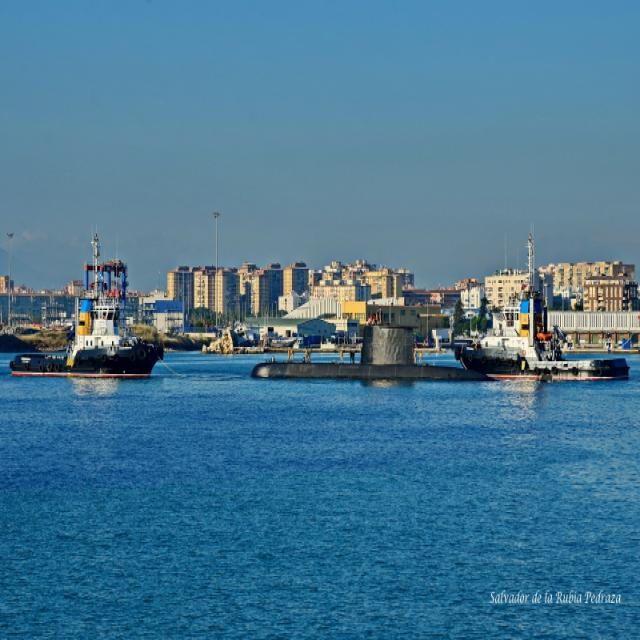submarine: (249, 335, 499, 382)
